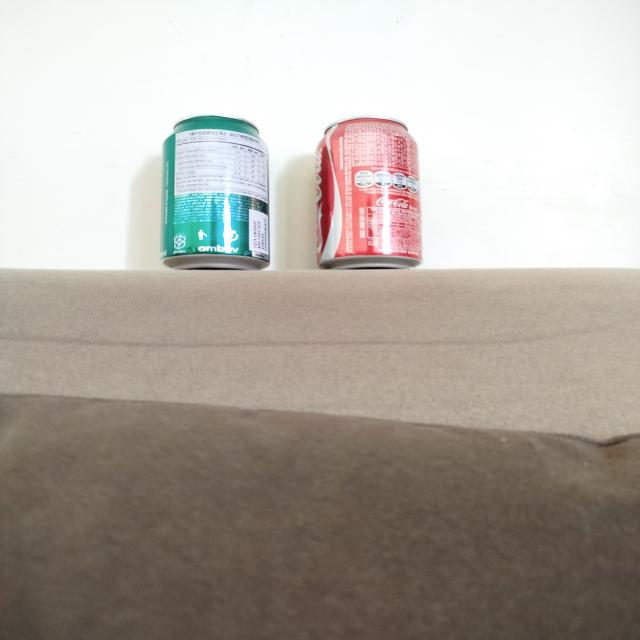Coca Cola: (315, 116, 421, 269)
Guarana: (160, 114, 268, 270)
